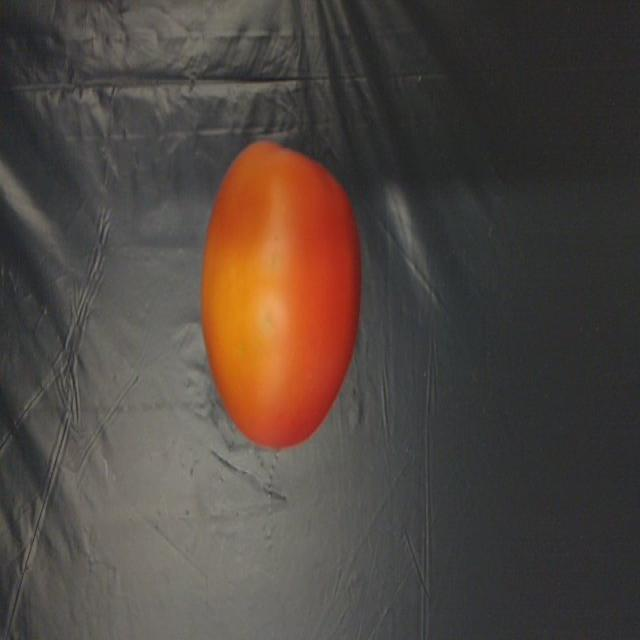sari: (176, 132, 361, 448)
